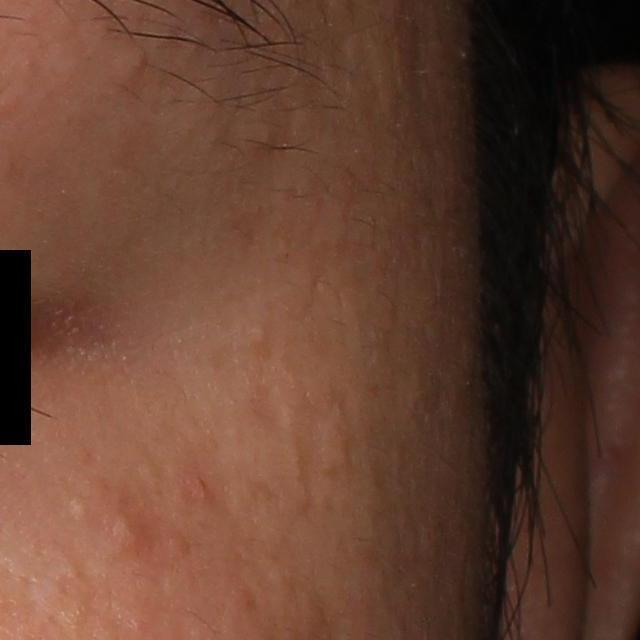comedo: (250, 323, 269, 344)
papule: (112, 518, 146, 550)
